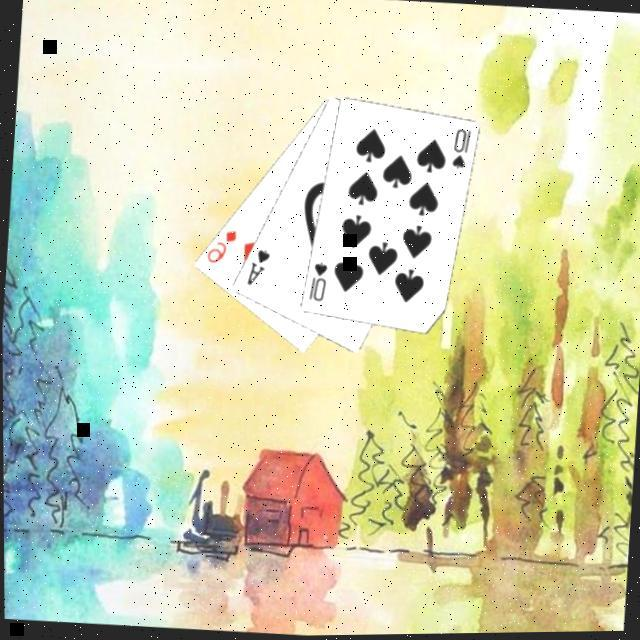10S: (304, 257, 330, 304), (448, 125, 474, 172)
9D: (202, 224, 241, 266)
AS: (242, 244, 274, 288)
